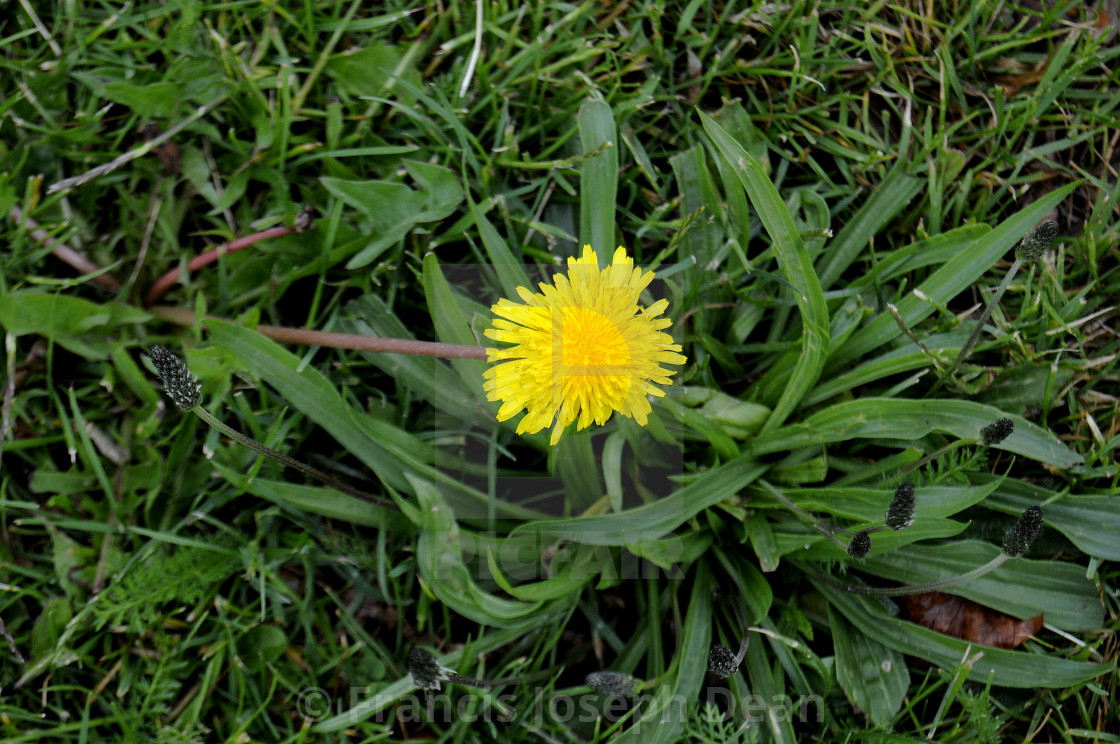dandelion: (478, 266, 676, 428)
